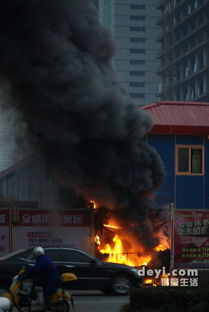fire: (89, 192, 175, 268)
